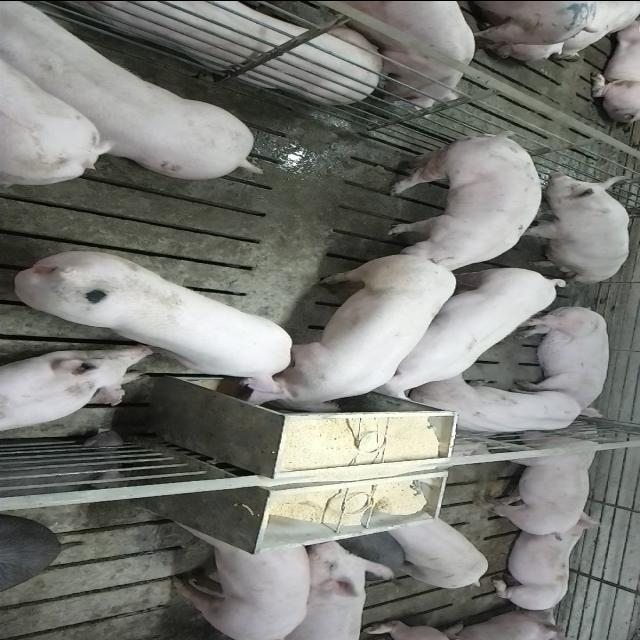Feeding: (15, 248, 298, 397), (253, 258, 467, 420)
Lateral_lying: (24, 0, 388, 101), (513, 302, 615, 418)
Sitting: (515, 169, 632, 284)
Standing: (0, 0, 258, 181), (358, 262, 569, 398), (2, 3, 132, 188), (382, 124, 548, 266), (156, 518, 310, 638), (470, 422, 612, 537), (248, 533, 398, 637), (334, 0, 474, 106), (384, 514, 488, 589)
Sternal_lying: (0, 347, 153, 433), (487, 516, 606, 612), (409, 375, 583, 437)
